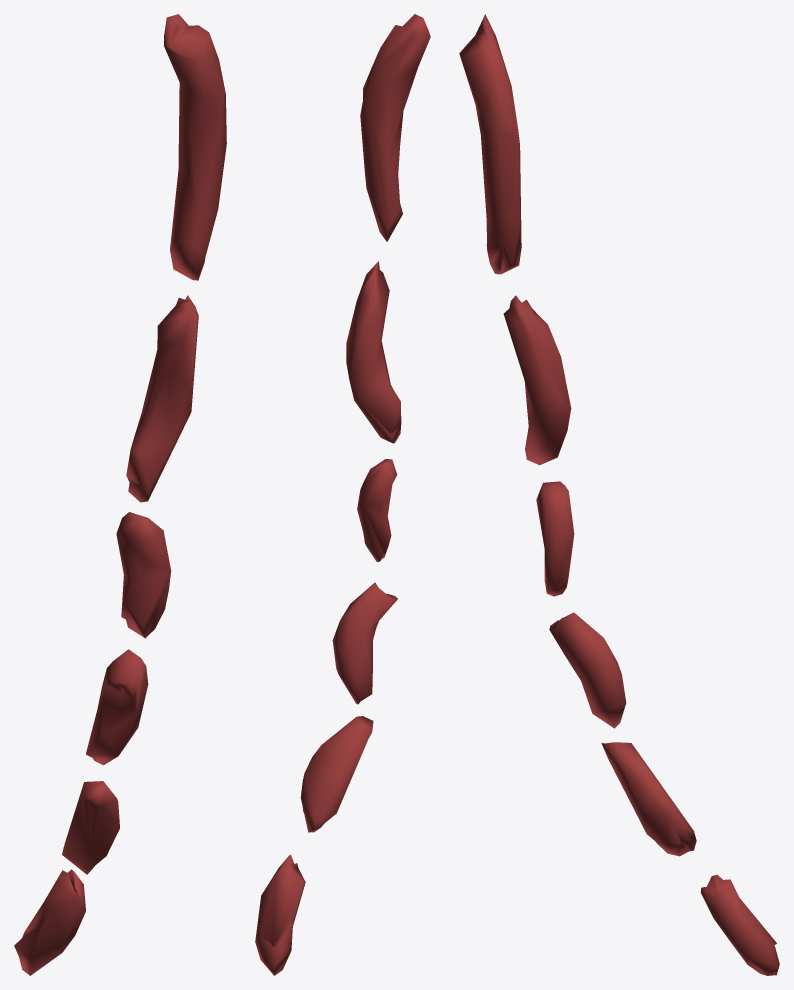
File: interspinales-colli-muscles-l.glb
The picture shows the model from 3 angles, left to right: view 1: azimuth 30°, elevation 25°; view 2: azimuth 150°, elevation 25°; view 3: azimuth 270°, elevation 25°; orthographic projection. The views are drawn at different scales.
Visible parts, largest first — view 1: Interspinales colli muscles.l; view 2: Interspinales colli muscles.l; view 3: Interspinales colli muscles.l.
Part boxes in pixels (box(x1,y1,x2,y2)): Interspinales colli muscles.l: box(14, 14, 226, 975); Interspinales colli muscles.l: box(255, 14, 430, 975); Interspinales colli muscles.l: box(459, 14, 779, 975).
Size of the model in its own units: 0.00681 by 0.0903 by 0.0275.
